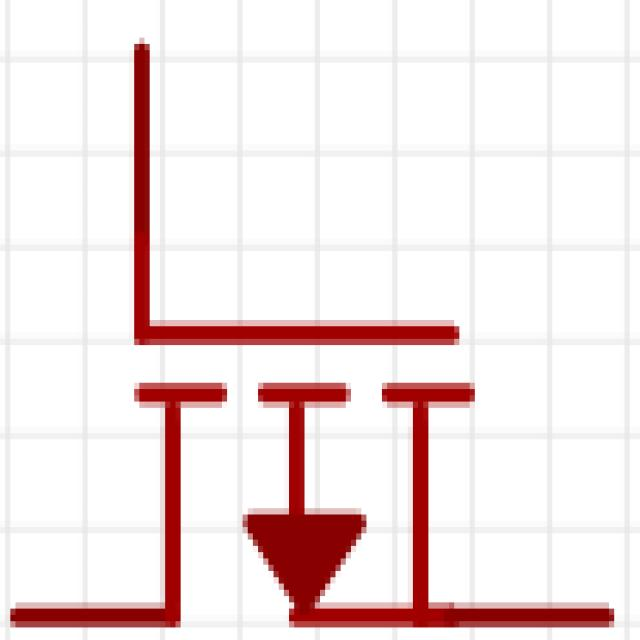pmos: (5, 56, 578, 640)
